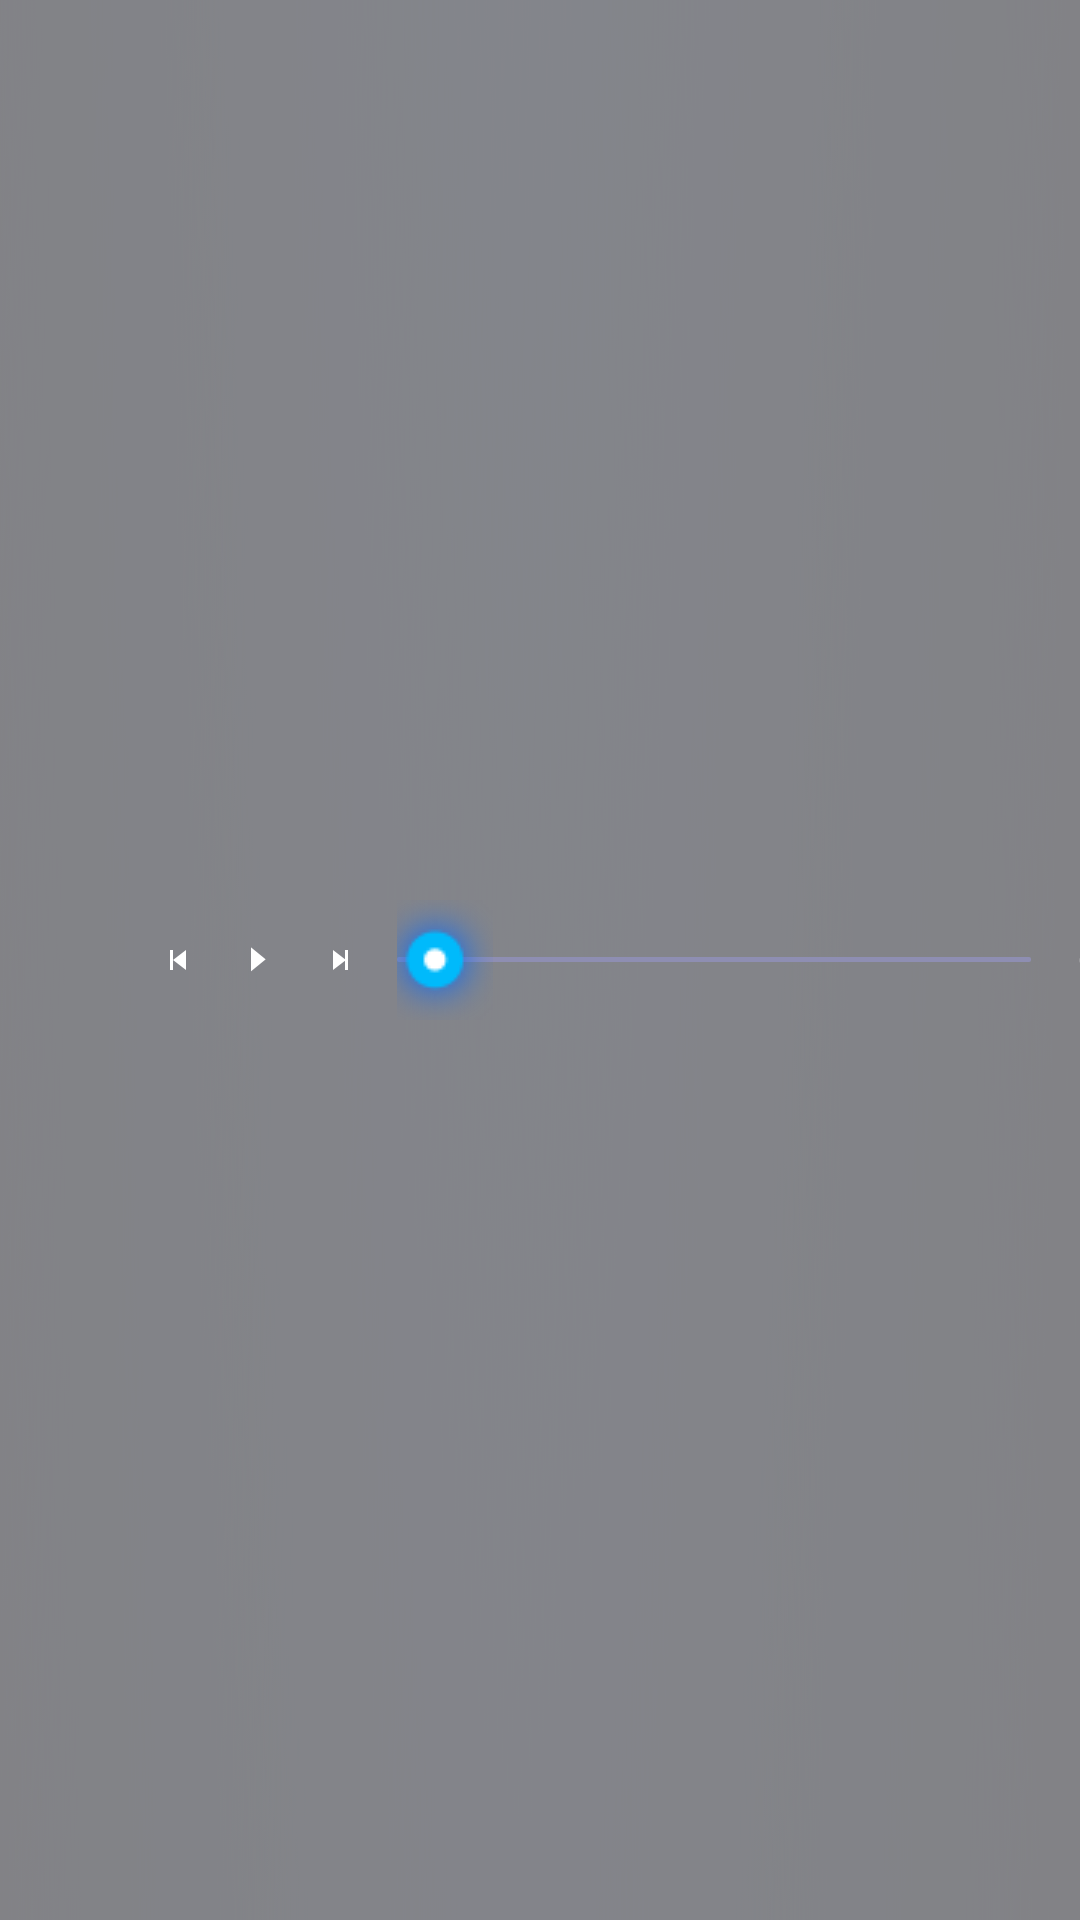

Icons on this 1080*1920 Android screen, each with the point to tap as point (x, y):
video play: point (258, 959)
